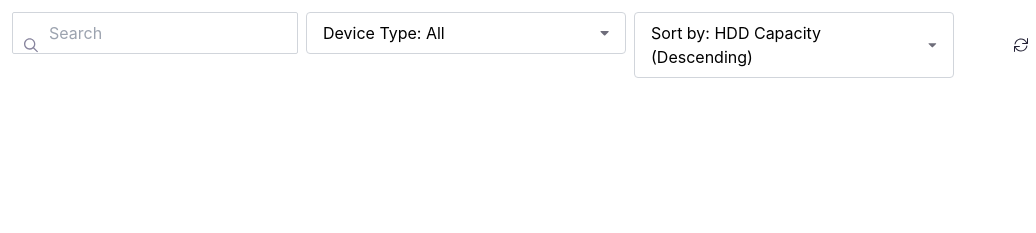
Test case: Header component › renders select inside component has proper options
The width and height of the screenshot is (1036, 233).
Click the text "Device Type: All" at (384, 33), box 323,21 -> 445,45
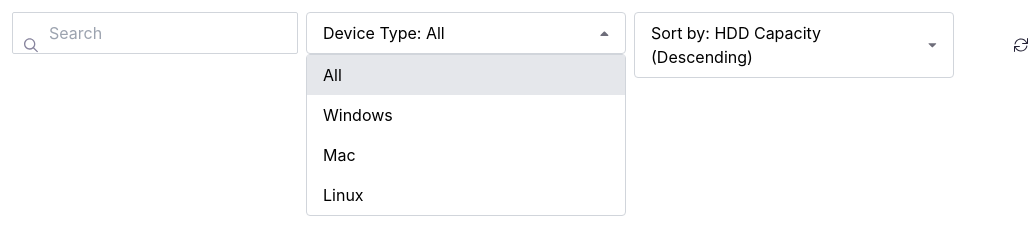
Expected: the text "All" is shown, 307,55 -> 625,95
Expected: the text "Windows" is shown, 323,105 -> 393,125
Expected: the text "Mac" is shown, 323,145 -> 356,165
